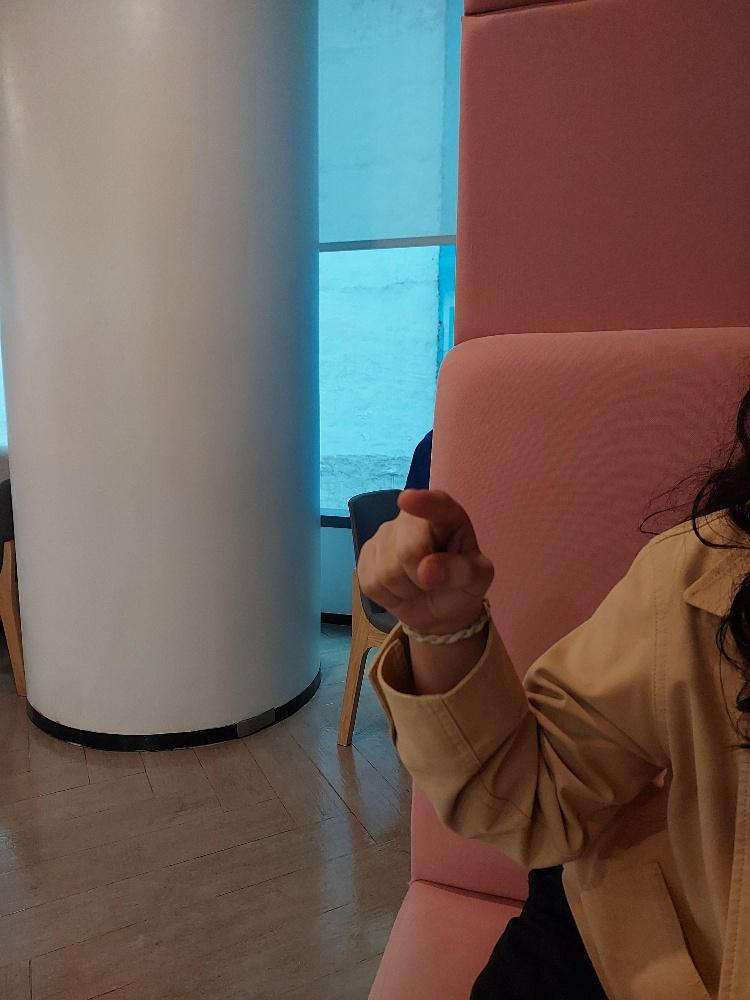z: (347, 480, 491, 642)
